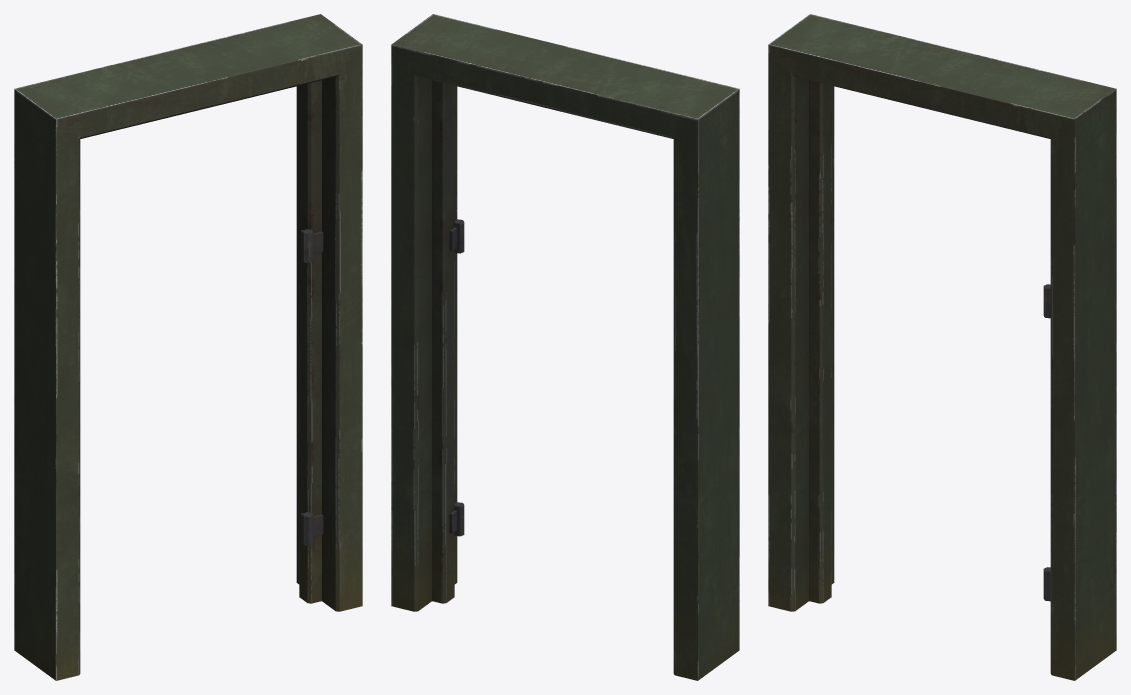
File: Marco.fbx
3 renders of one model, left to right at view 1: azimuth 30°, elevation 25°; view 2: azimuth 150°, elevation 25°; view 3: azimuth 330°, elevation 25°, orthographic.
Visible parts, largest first — view 1: frame; view 2: frame; view 3: frame.
Boxes of the visible parts, x1,y1,x2,y2 form: frame: (14,14,362,680); frame: (391,14,739,680); frame: (768,14,1116,680).
Bounding box in the file's own units: 127 × 222 × 30.
